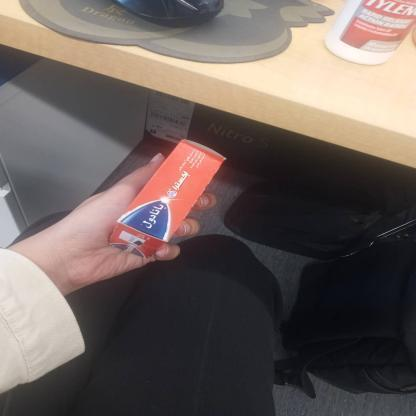jar: (326, 0, 416, 64)
